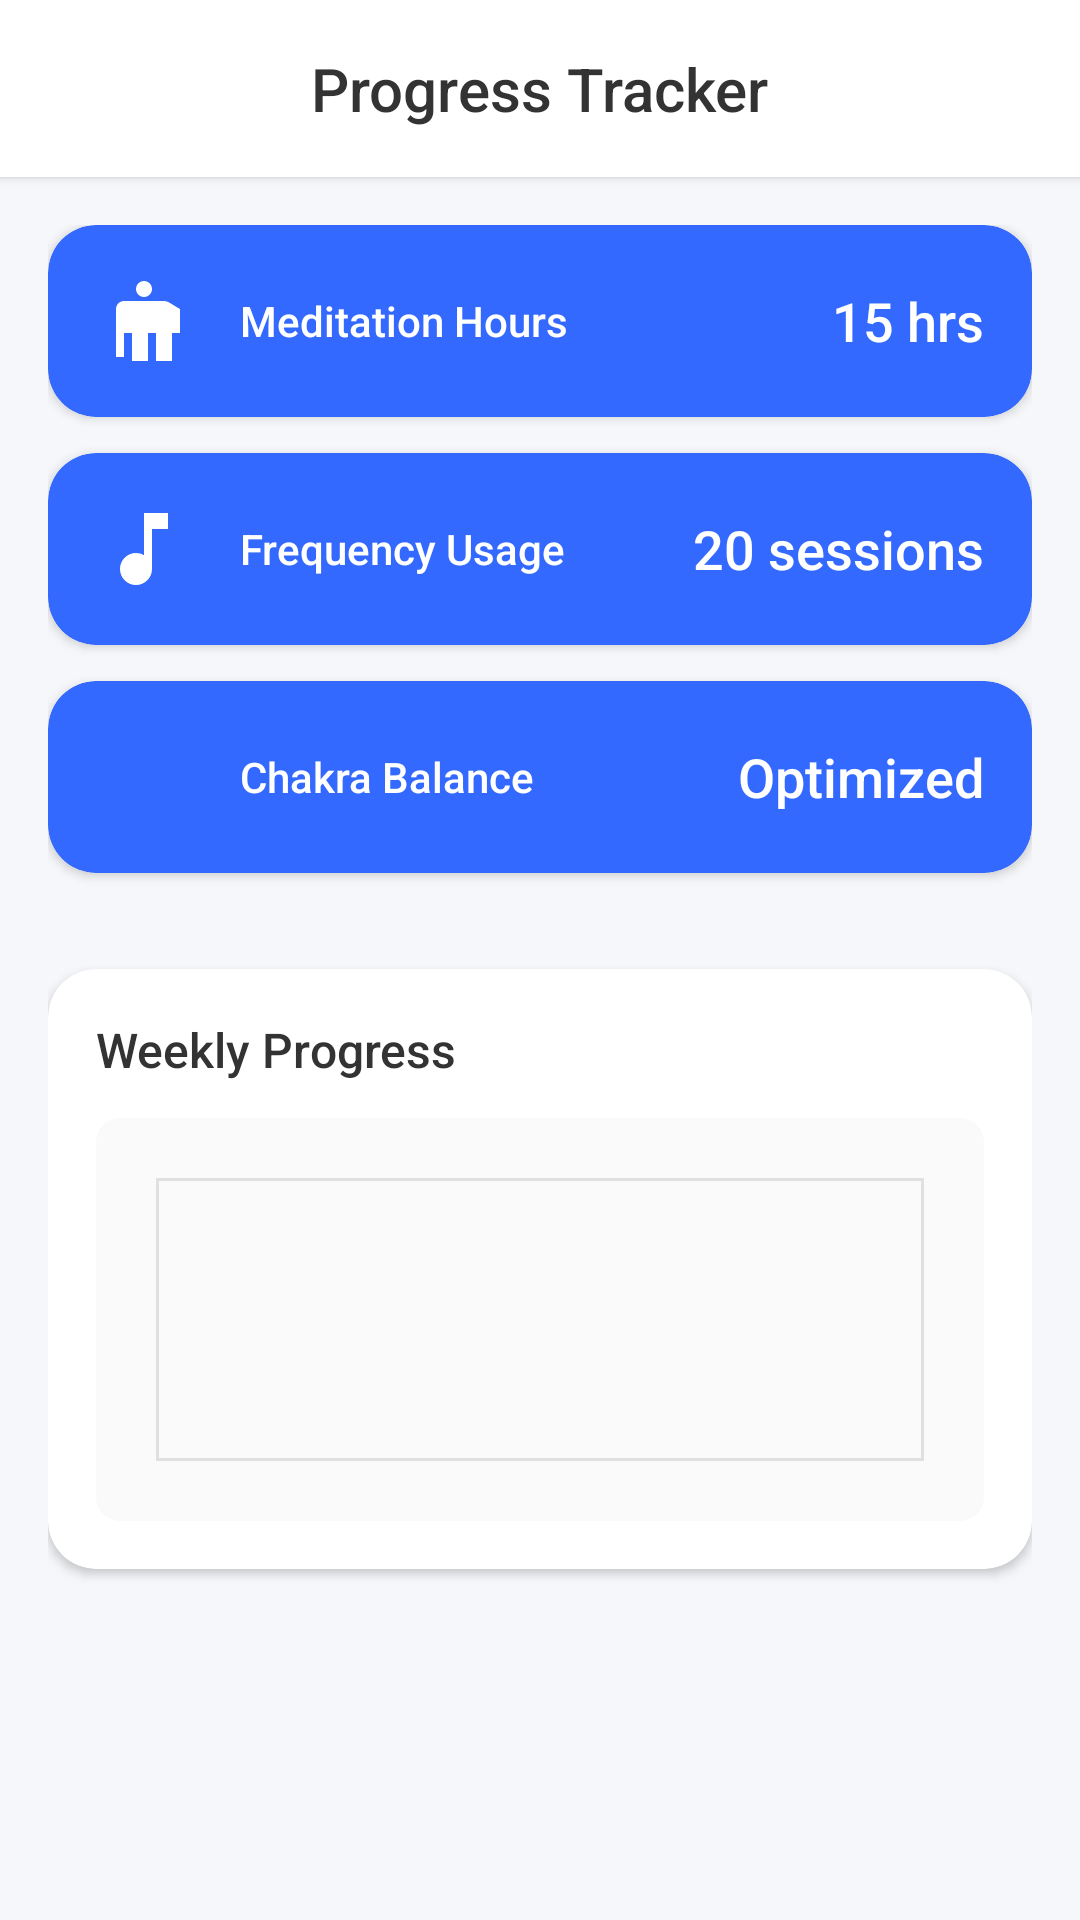

Icons on this 1080 x 1920 Android screen, each with the point to tap as (x=x, y=y):
music note: (x=144, y=549)
